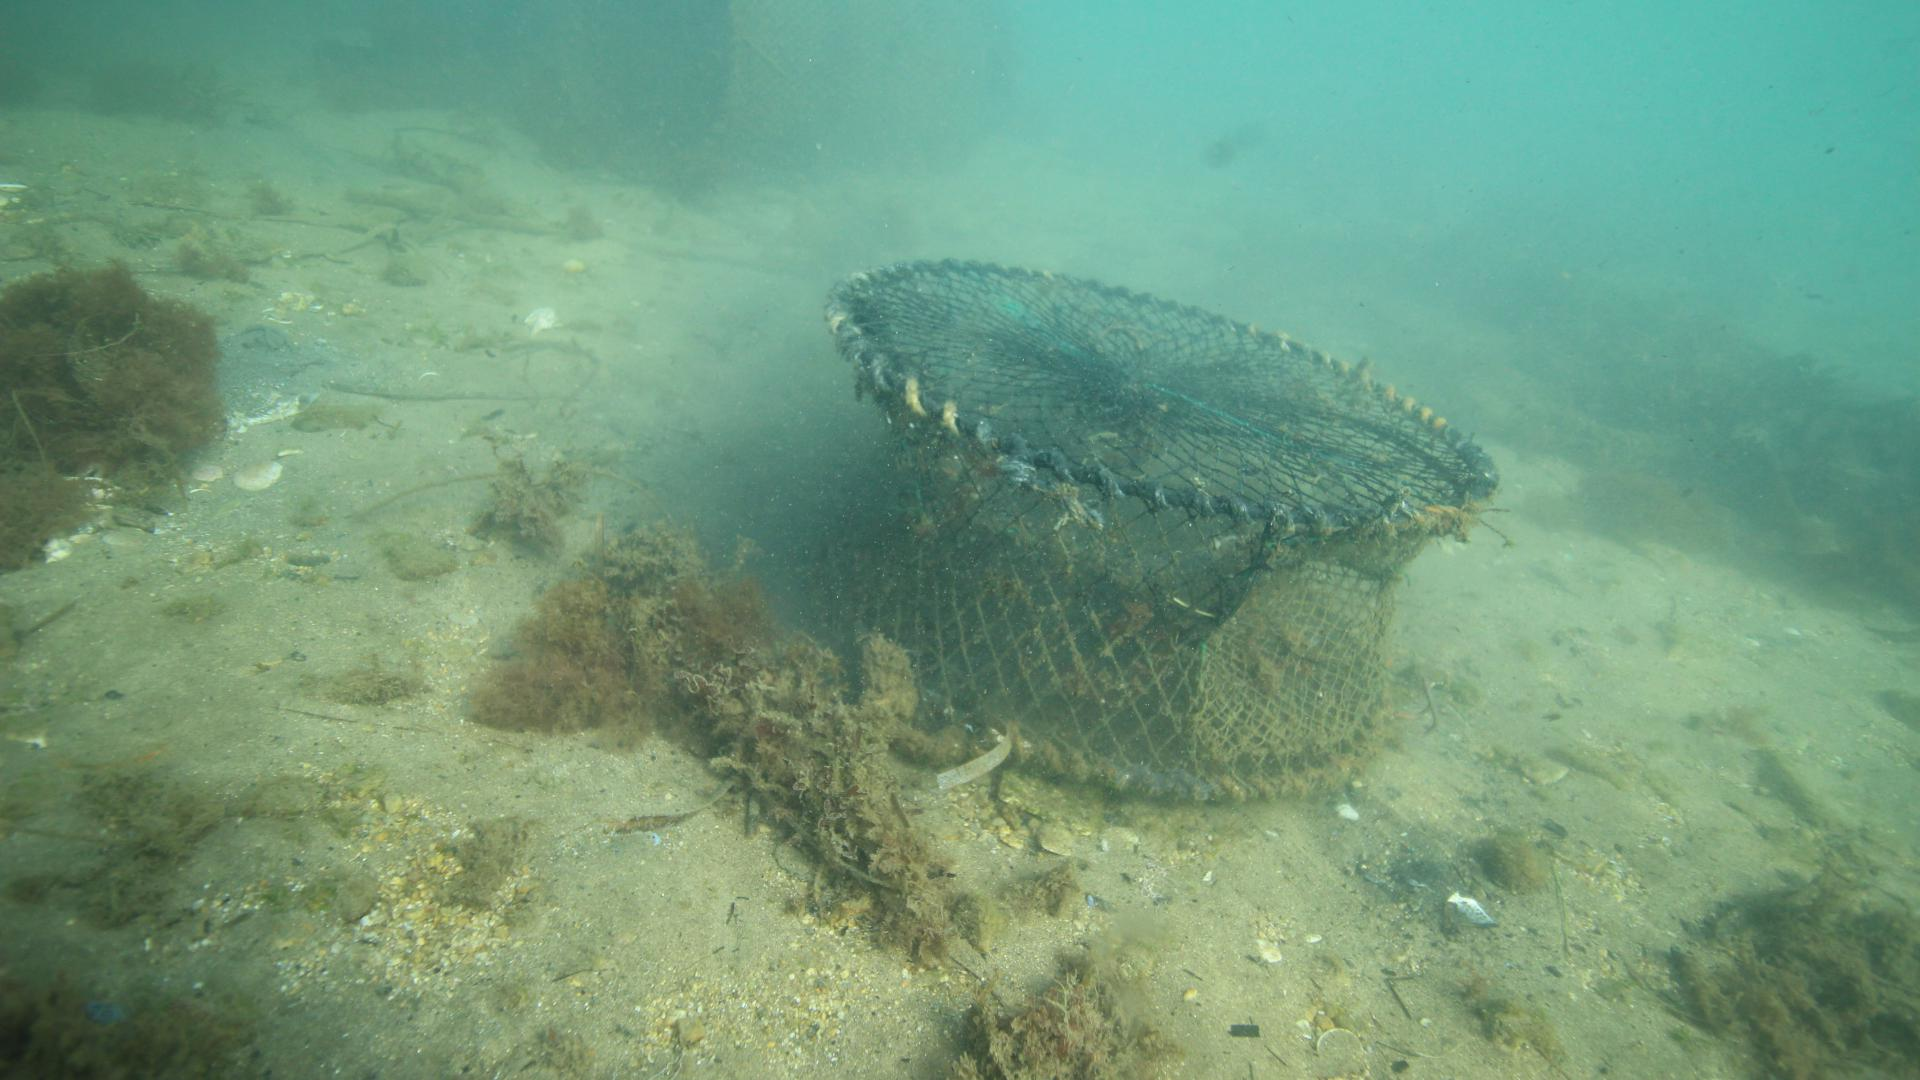circular fish trap: (822, 252, 1495, 804)
